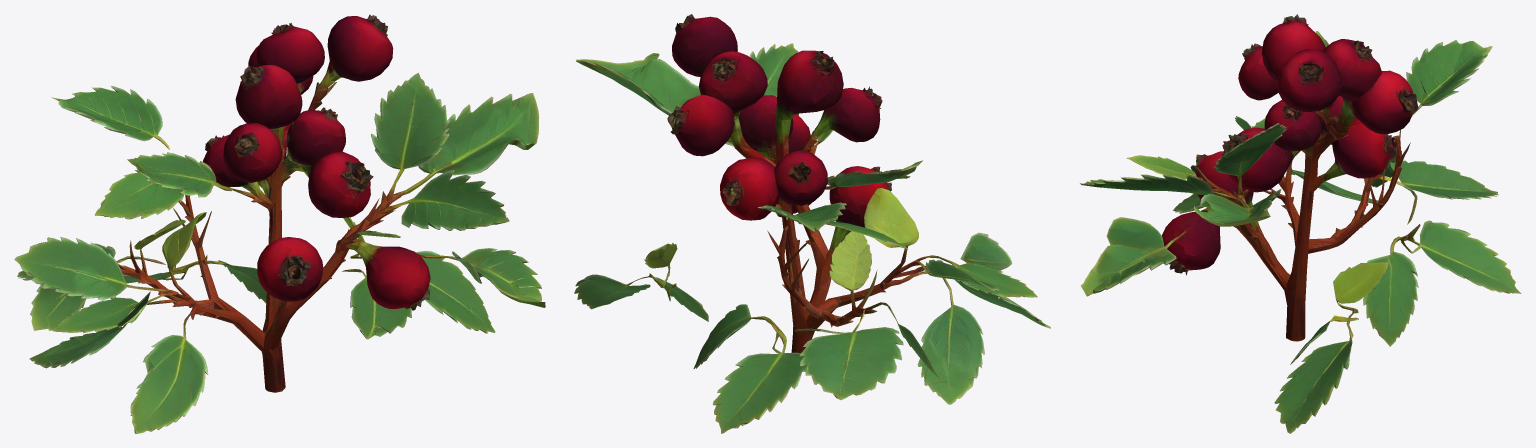
The model's file is resource-berries-final.glb.
3 views of the same model, side by side, from view 1: azimuth 30°, elevation 25°; view 2: azimuth 150°, elevation 25°; view 3: azimuth 270°, elevation 25° (orthographic). The views are drawn at different scales.
Parts seen in each view (by area): view 1: Mesh_0; view 2: Mesh_0; view 3: Mesh_0.
Part boxes in pixels (left/top/right/bottom): Mesh_0: left=14, top=14, right=545, bottom=433; Mesh_0: left=574, top=14, right=1050, bottom=433; Mesh_0: left=1080, top=14, right=1521, bottom=433.
Bounding box in the file's own units: 0.4375 × 0.3 × 0.3679.
Materials: 1 (1 with a texture image).
